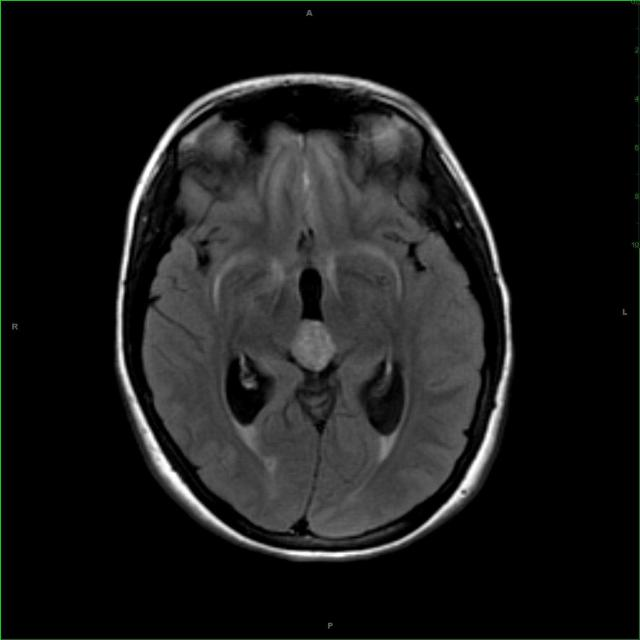Tumor: (295, 304, 341, 382)
